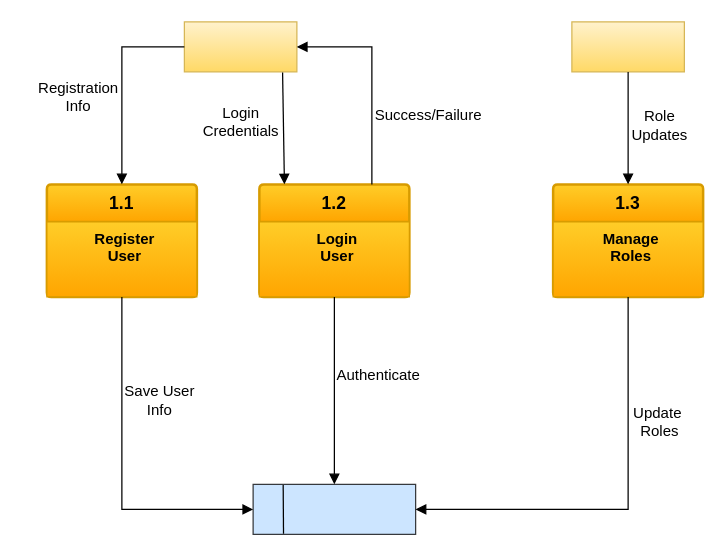
Some shapes in this 725 by 558 pixel diagram are drawn without their labels. Here are the shapes that lost their labels. From the top down, the centre of each, then its label:
the point at 240,46: User
the point at 627,46: Admin
the point at 334,508: User Accounts
